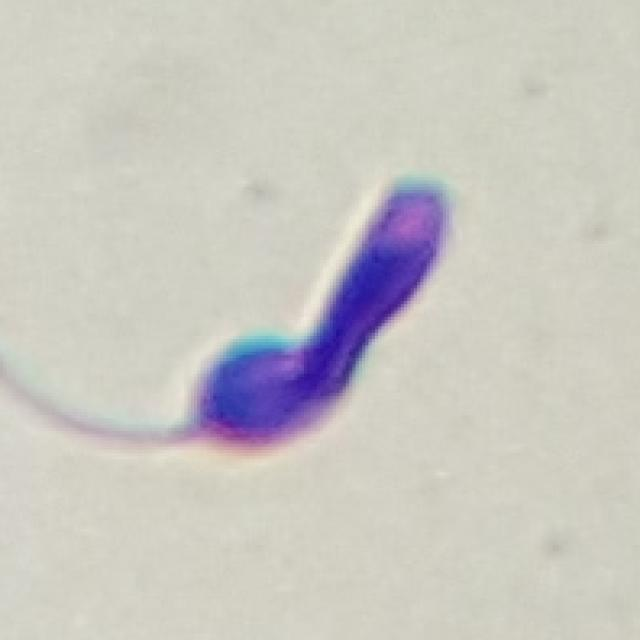abnormal sperm: (36, 180, 452, 455)
